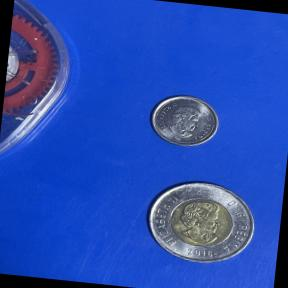coin: (138, 174, 262, 272), (139, 87, 230, 159)
